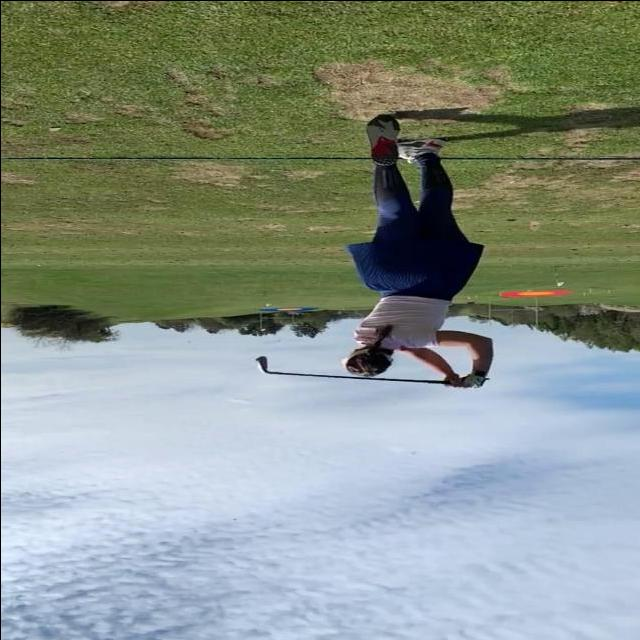ClubHandle: (255, 355, 452, 384)
ClubHead: (254, 355, 268, 372)
